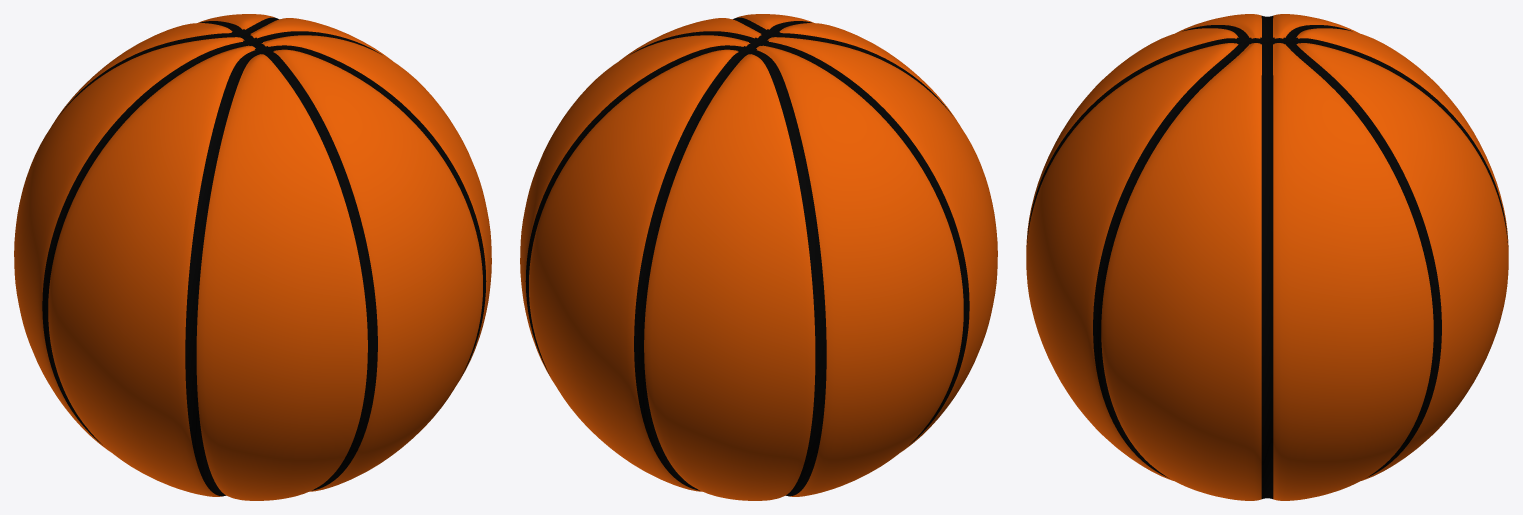
Rendered from Basketball.fbx.
3 renders of one model, left to right at view 1: azimuth 30°, elevation 25°; view 2: azimuth 150°, elevation 25°; view 3: azimuth 270°, elevation 25°, orthographic.
Parts seen in each view (by area): view 1: Basketball; view 2: Basketball; view 3: Basketball.
Part boxes in pixels (left/top/right/bottom): Basketball: left=14, top=14, right=491, bottom=500; Basketball: left=520, top=14, right=997, bottom=500; Basketball: left=1026, top=14, right=1508, bottom=500.
Bounding box in the file's own units: 1.95 × 1.95 × 1.96.
